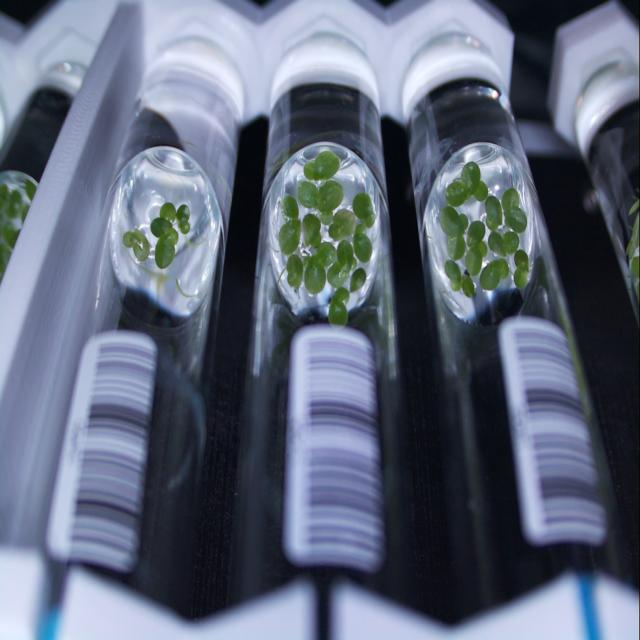Lemna-Gibba: (298, 180, 344, 225), (445, 162, 489, 207), (150, 202, 176, 269), (302, 242, 335, 294), (352, 192, 375, 262), (279, 195, 301, 255), (328, 240, 354, 289), (465, 220, 488, 275), (501, 188, 528, 233), (304, 150, 340, 180), (122, 228, 150, 262), (480, 259, 509, 290), (329, 208, 356, 240), (488, 230, 519, 257), (440, 205, 466, 237), (329, 287, 350, 325), (302, 213, 321, 247), (286, 254, 304, 289), (514, 248, 529, 289), (485, 195, 502, 230), (445, 260, 462, 292), (446, 235, 466, 260), (176, 205, 190, 233), (350, 269, 366, 292), (461, 275, 475, 297), (459, 213, 469, 232), (351, 257, 358, 268)
